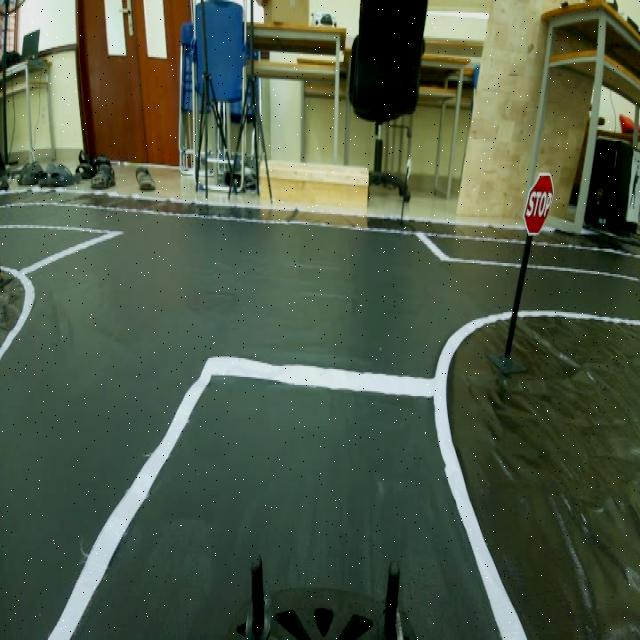stop: (522, 168, 557, 244)
